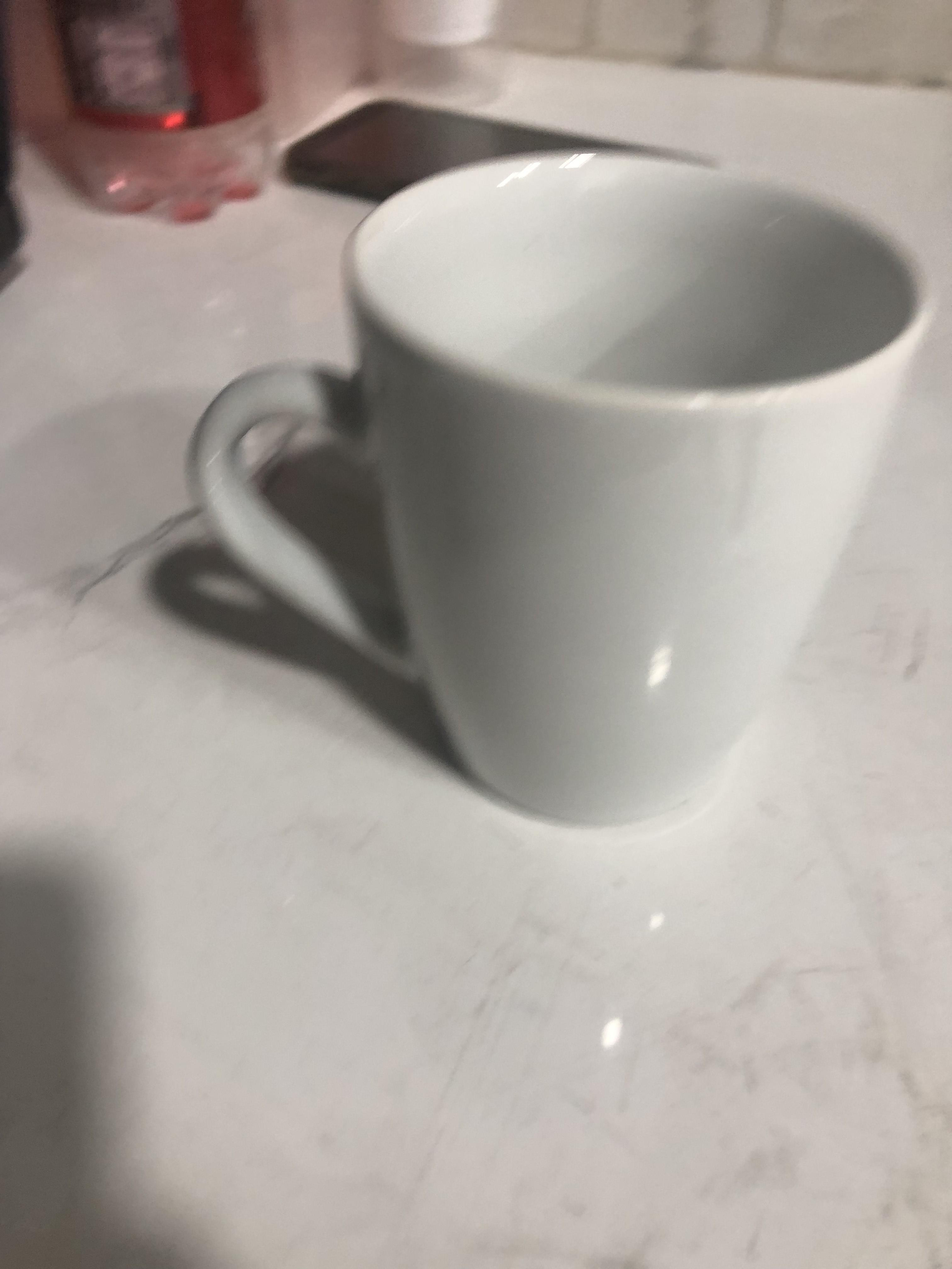cup-handle: (184, 150, 951, 826)
